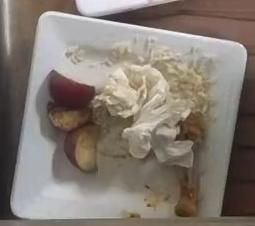potato: (47, 70, 100, 172), (149, 43, 208, 122)
